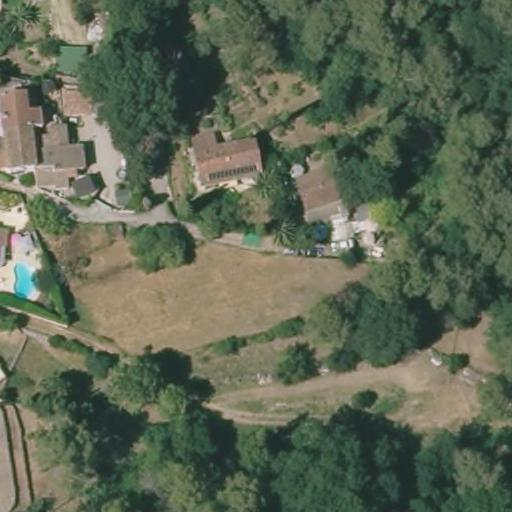pool: (9, 252, 43, 303)
